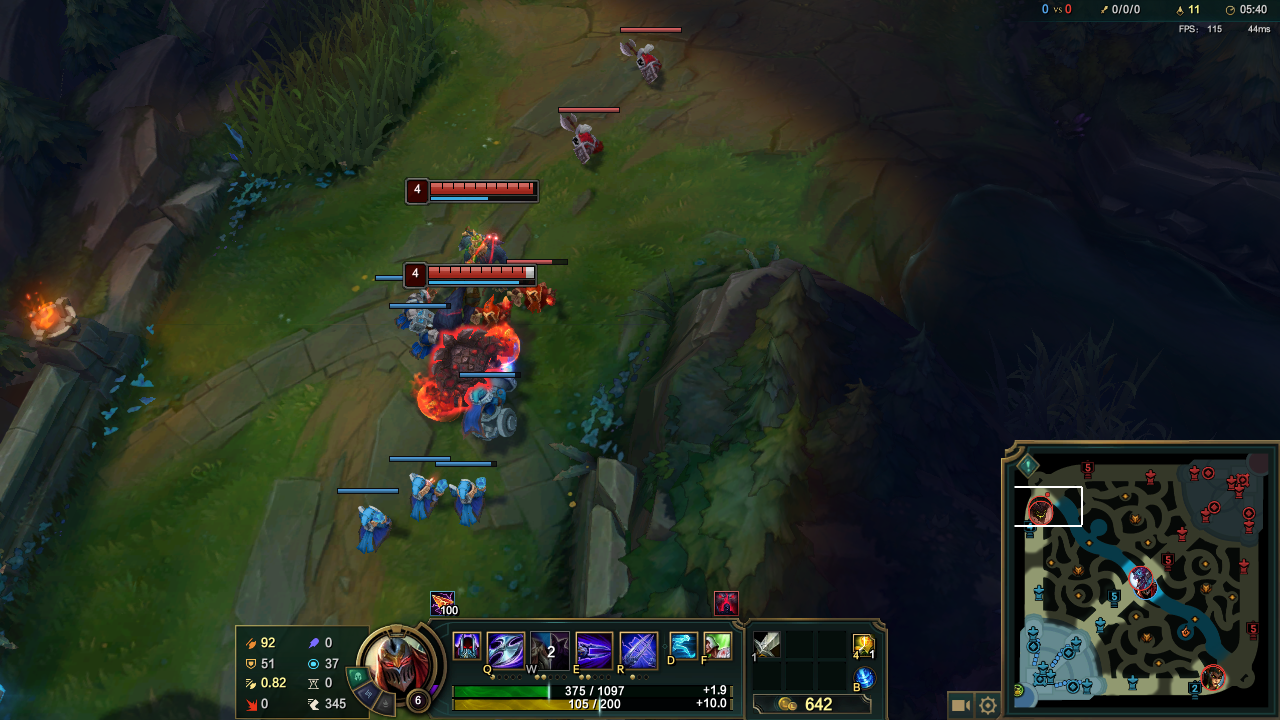DFYX: (428, 181, 536, 203), (430, 267, 537, 285)
